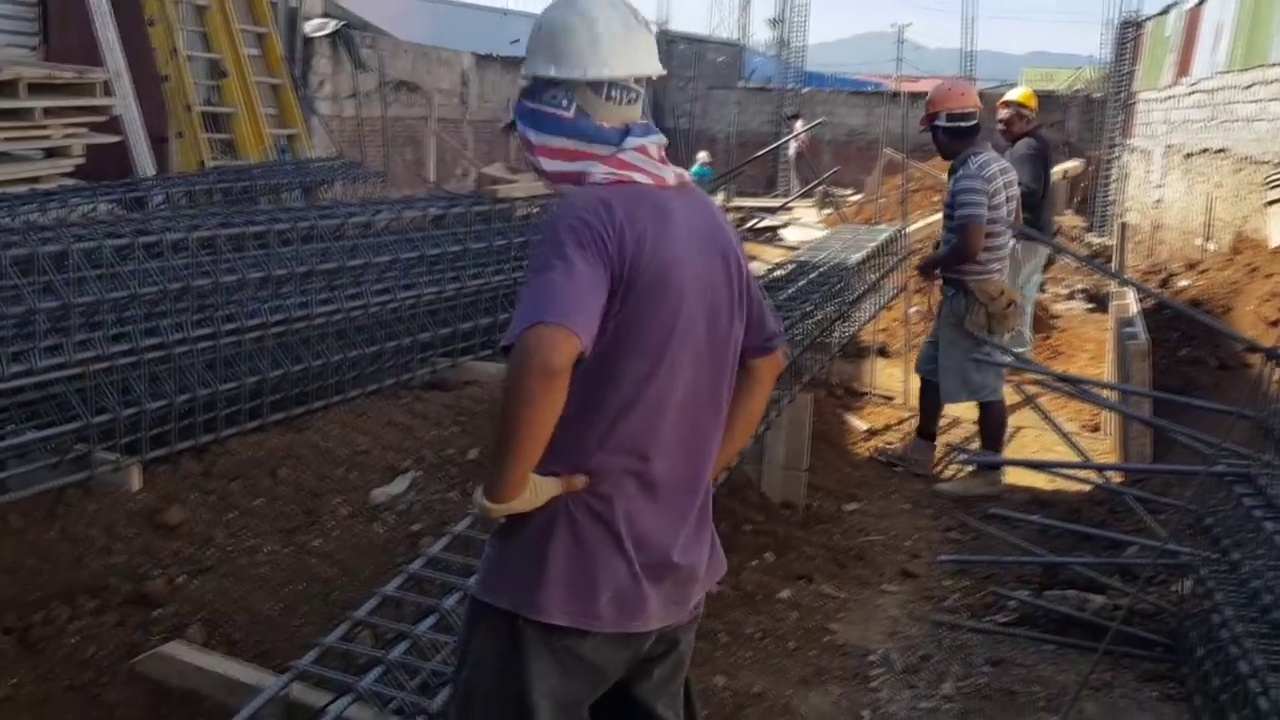helmet: (514, 6, 670, 105), (920, 77, 985, 130), (996, 82, 1043, 115), (695, 149, 716, 163)
helmet-off: (779, 107, 802, 127)
helmet-on: (506, 0, 680, 195), (919, 77, 988, 163), (995, 83, 1043, 137), (694, 148, 716, 166)
person: (440, 1, 778, 720), (904, 68, 1033, 498), (996, 75, 1073, 314), (779, 106, 810, 205), (691, 148, 717, 188)
